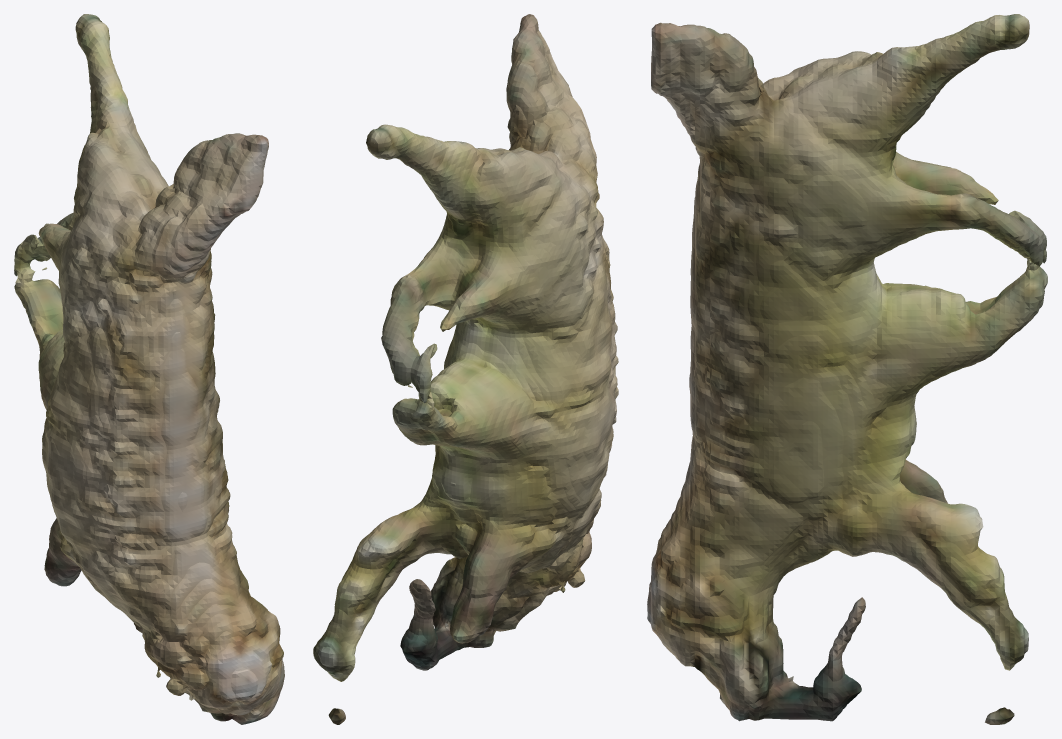
3 views of the same model, side by side, from view 1: azimuth 30°, elevation 25°; view 2: azimuth 150°, elevation 25°; view 3: azimuth 270°, elevation 25° (orthographic). The views are drawn at different scales.
Parts seen in each view (by area): view 1: world; view 2: world; view 3: world.
Part boxes in pixels (x1,y1,x2,y2): world: (14,14,284,724); world: (313,14,618,724); world: (647,14,1047,724).
Bounding box in the file's own units: 0.356 × 1.04 × 0.556.
